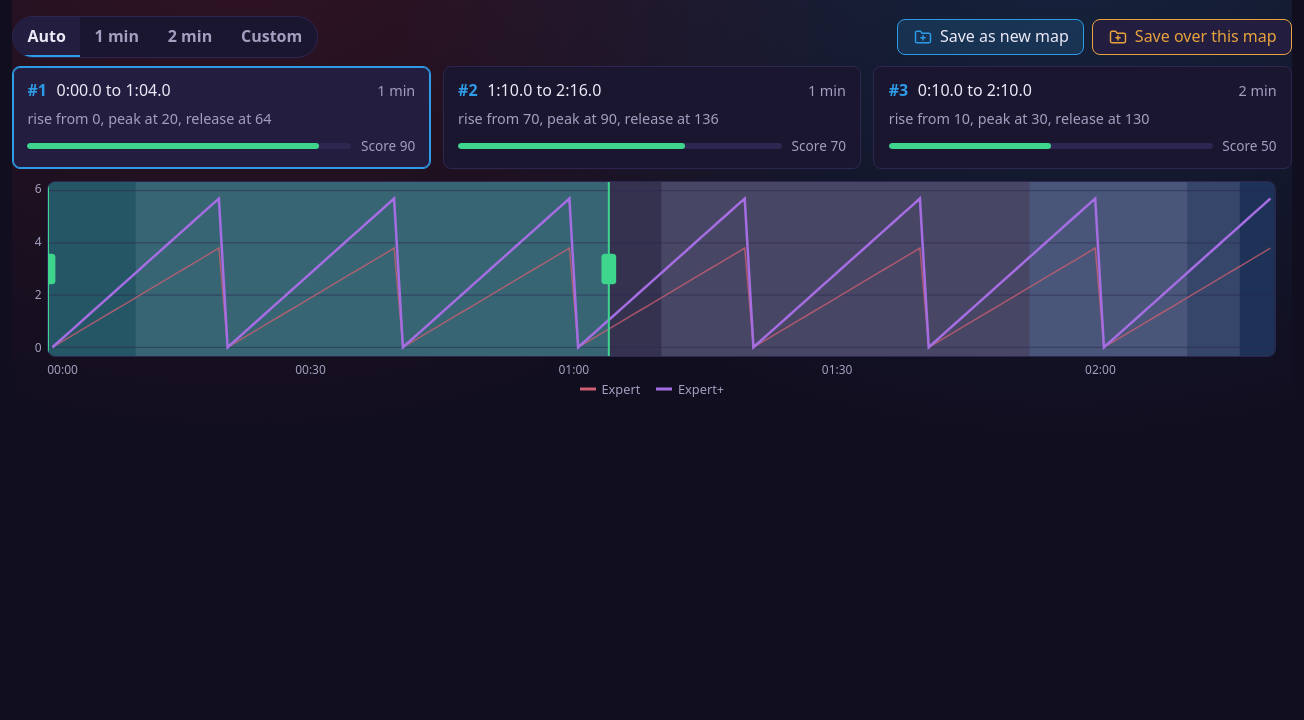
Test: CropPanel › a finished job links to the new folder
Expected: the slider labelled "Crop end" is shown, [602, 182, 616, 356]
Click the button "Save as new map" at point(991, 37), box [897, 19, 1084, 55]
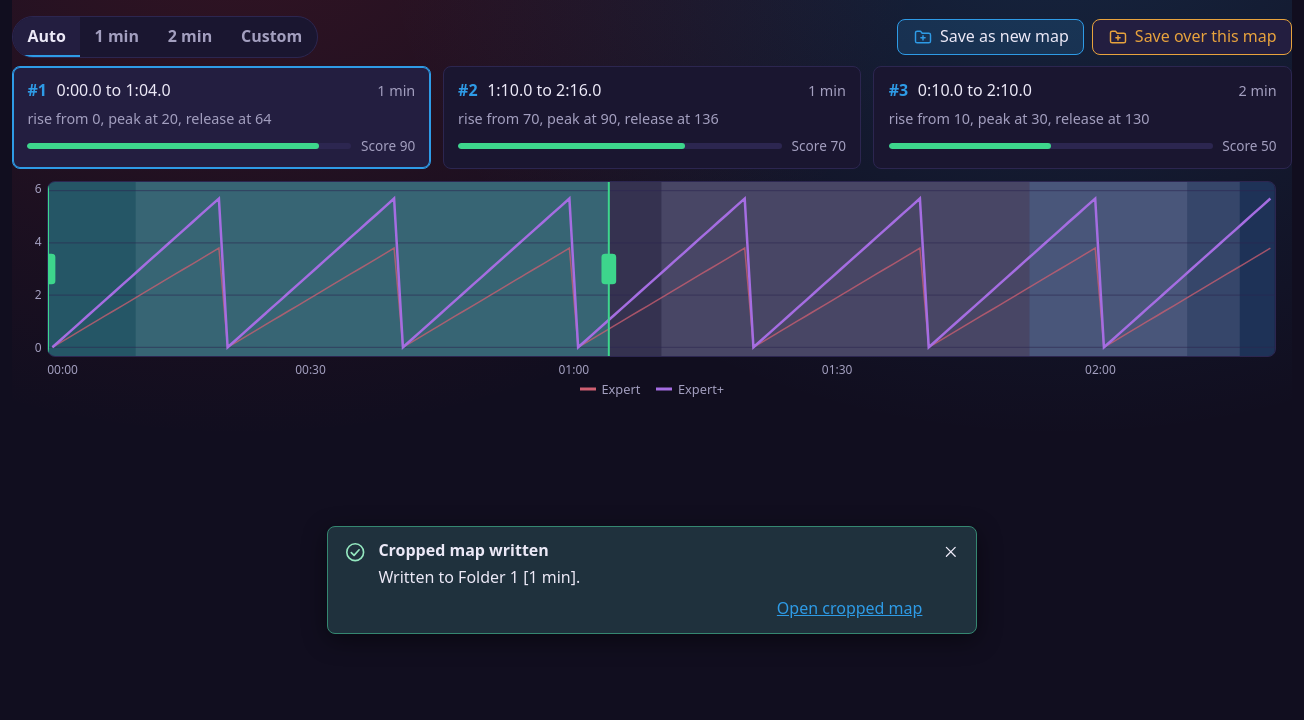
Expected: the text "Written to Folder 1 [1 min]." is shown, [378, 566, 580, 588]
